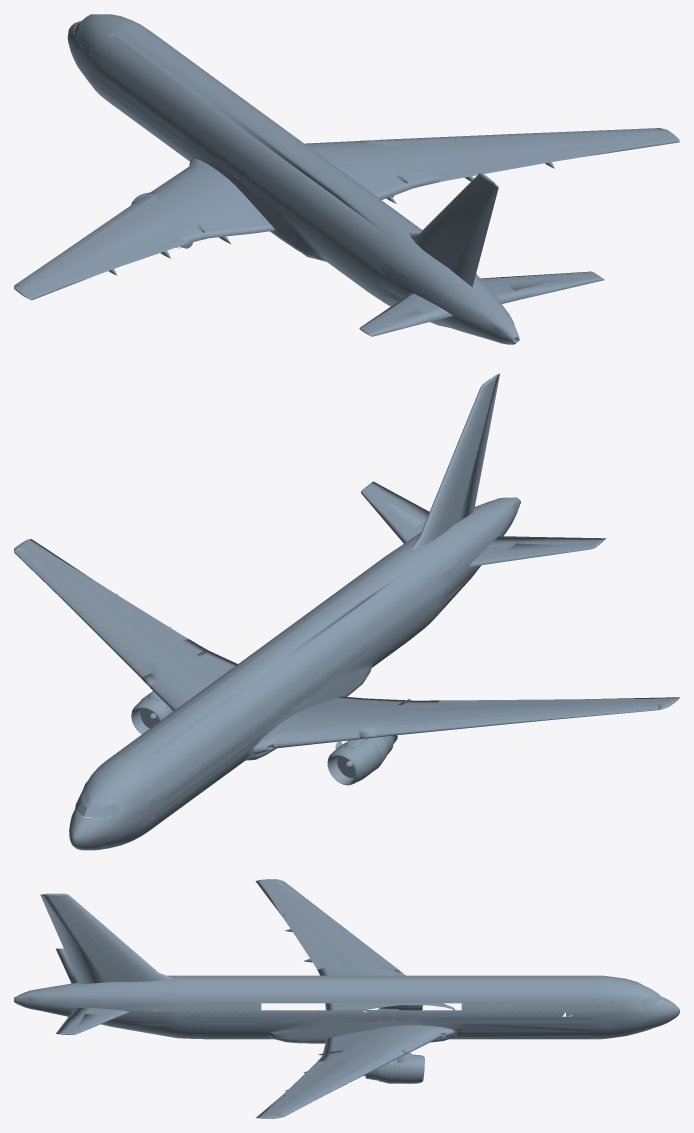
3 renders of one model, top to bottom at view 1: azimuth 30°, elevation 25°; view 2: azimuth 150°, elevation 25°; view 3: azimuth 270°, elevation 25°, orthographic. The views are drawn at different scales.
Size of the model in its own units: 51.78 by 15.47 by 61.06.
